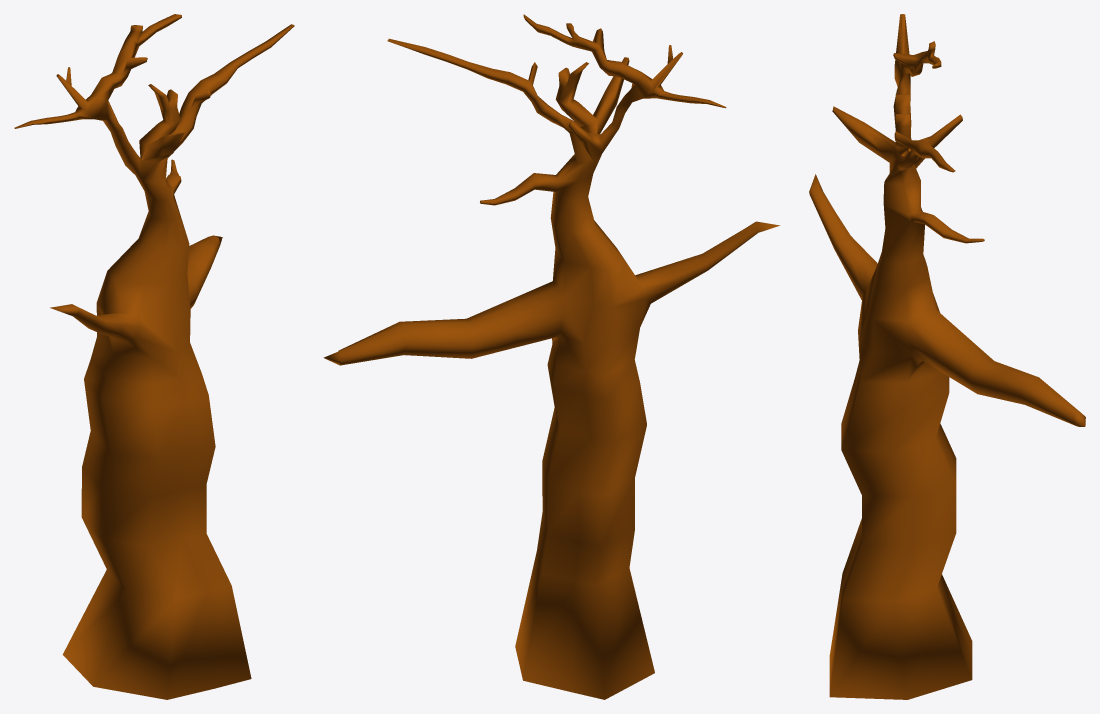
The model's file is Tree.glb.
The picture shows the model from 3 angles, left to right: view 1: azimuth 30°, elevation 25°; view 2: azimuth 150°, elevation 25°; view 3: azimuth 270°, elevation 25°; orthographic projection. The views are drawn at different scales.
Parts seen in each view (by area): view 1: Tree; view 2: Tree; view 3: Tree.
Boxes of the visible parts, x1,y1,x2,y2 form: Tree: [14, 14, 294, 699]; Tree: [323, 14, 779, 699]; Tree: [809, 14, 1085, 699].
Bounding box in the file's own units: 107 × 205 × 82.28.
